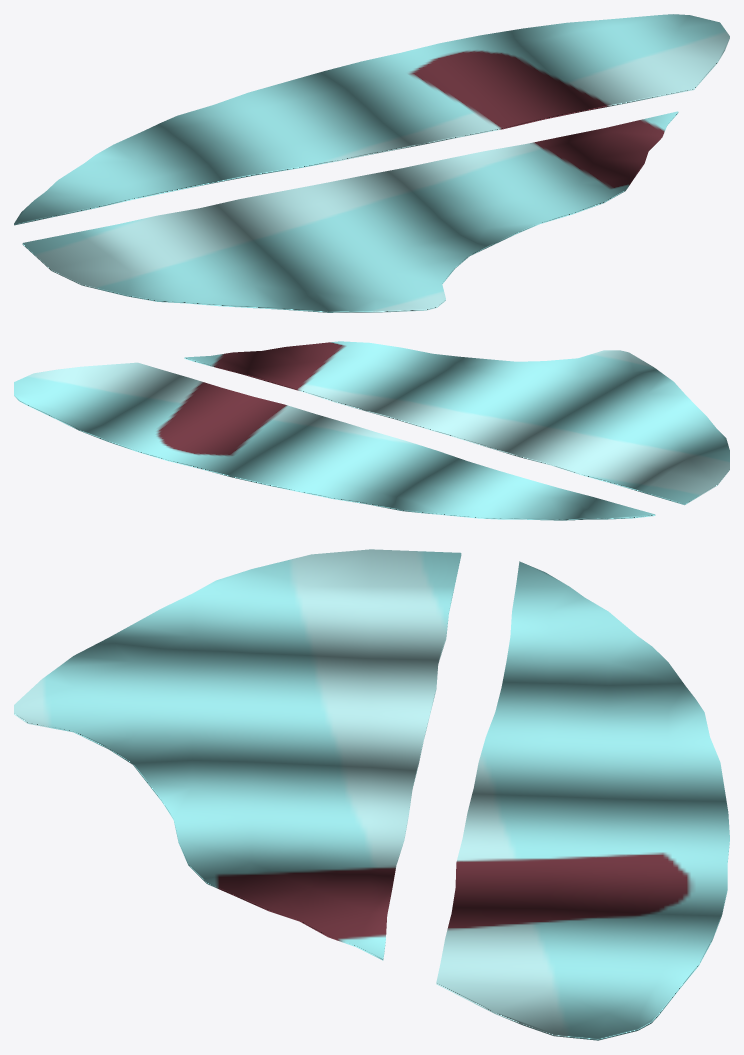
The model's file is Level 13.fbx.
3 renders of one model, top to bottom at view 1: azimuth 30°, elevation 25°; view 2: azimuth 150°, elevation 25°; view 3: azimuth 270°, elevation 25°, orthographic. The views are drawn at different scales.
Parts seen in each view (by area): view 1: lower_shelf, upper_shelf; view 2: lower_shelf, upper_shelf; view 3: lower_shelf, upper_shelf.
Boxes of the visible parts, x1,y1,x2,y2 form: lower_shelf: [22, 111, 678, 312]; upper_shelf: [14, 14, 729, 225]; lower_shelf: [184, 341, 729, 505]; upper_shelf: [14, 362, 655, 520]; lower_shelf: [14, 549, 461, 960]; upper_shelf: [436, 561, 729, 1040].
Size of what is drawn, in the model's own units: 5.85 by 0.0161 by 3.62.
